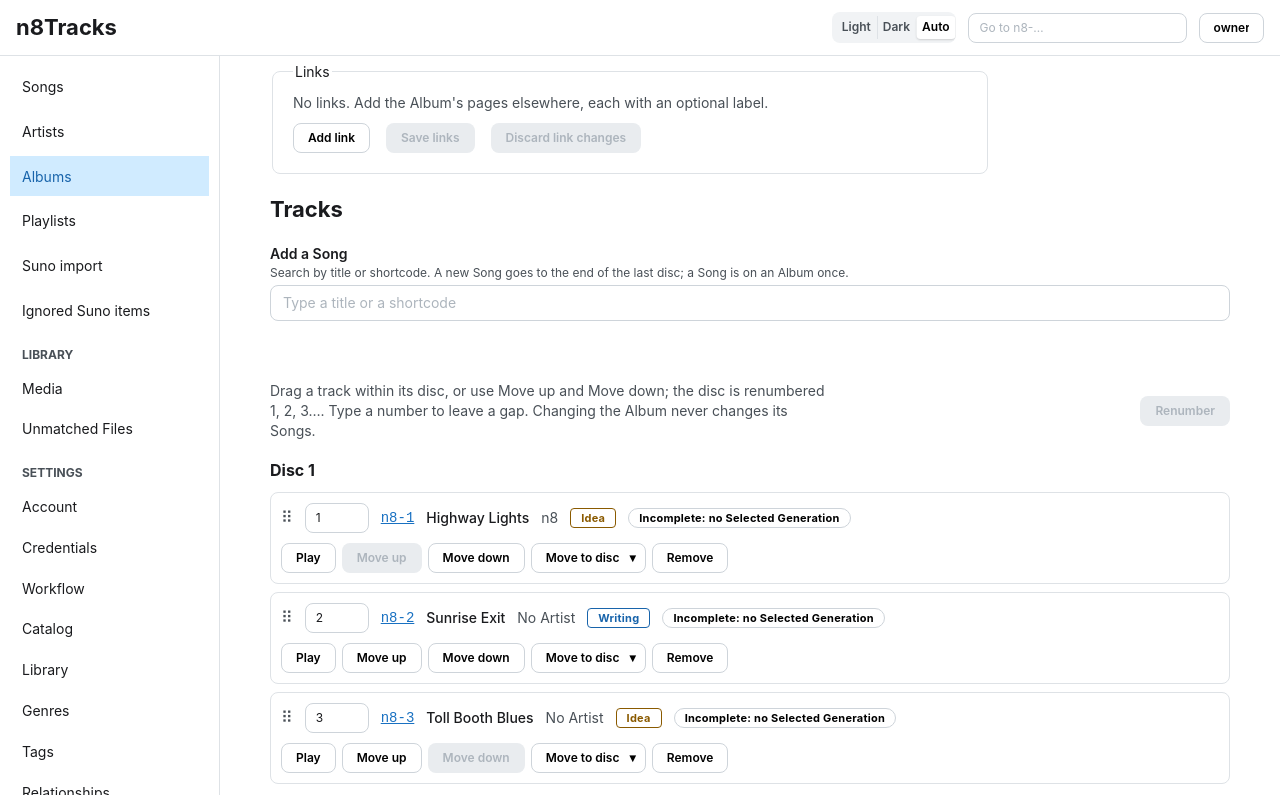
Test: an Album's tracks › refuses a number another track on the disc holds, naming it, and a number out of range
This screenshot has width=1280, height=795.
(page scrolled)
Replace the text in the field named "Track number of Toll Booth Blues" with "1" at [337, 718], box [305,703,369,733]
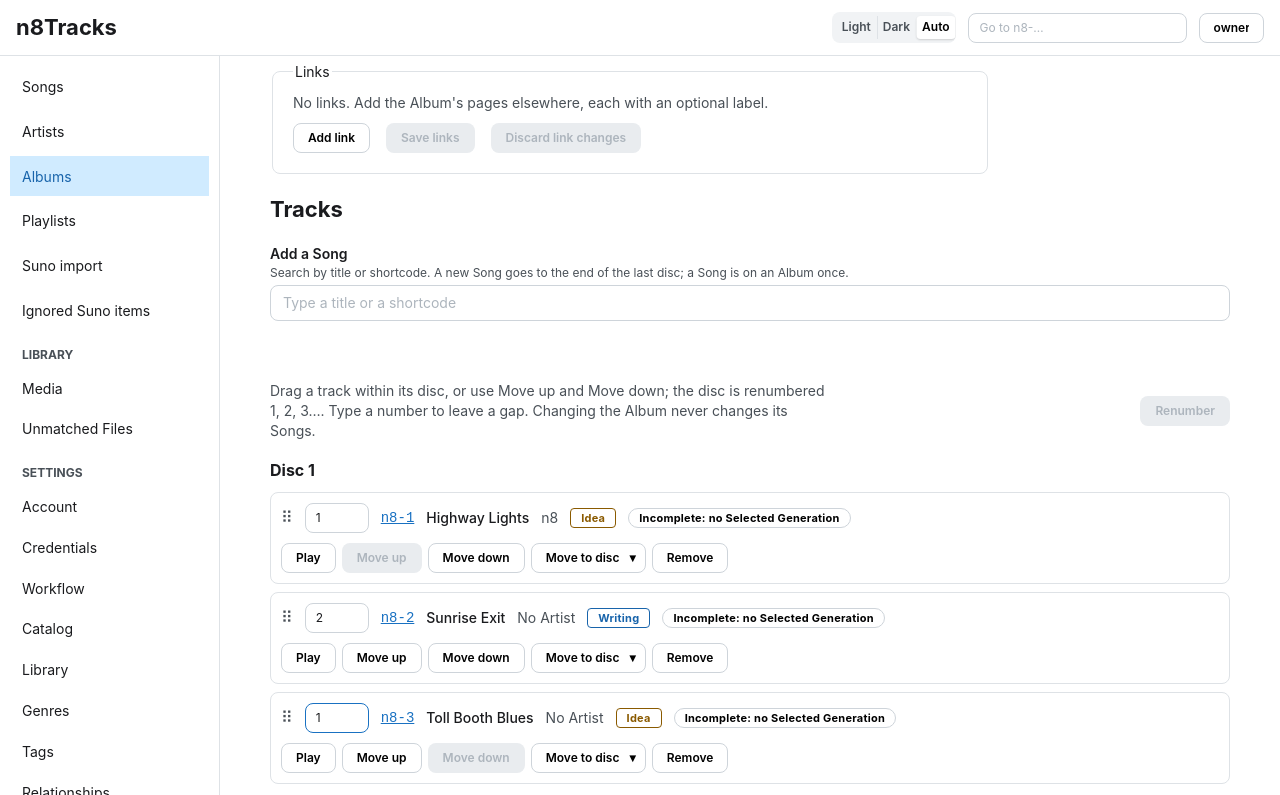
Press Tab
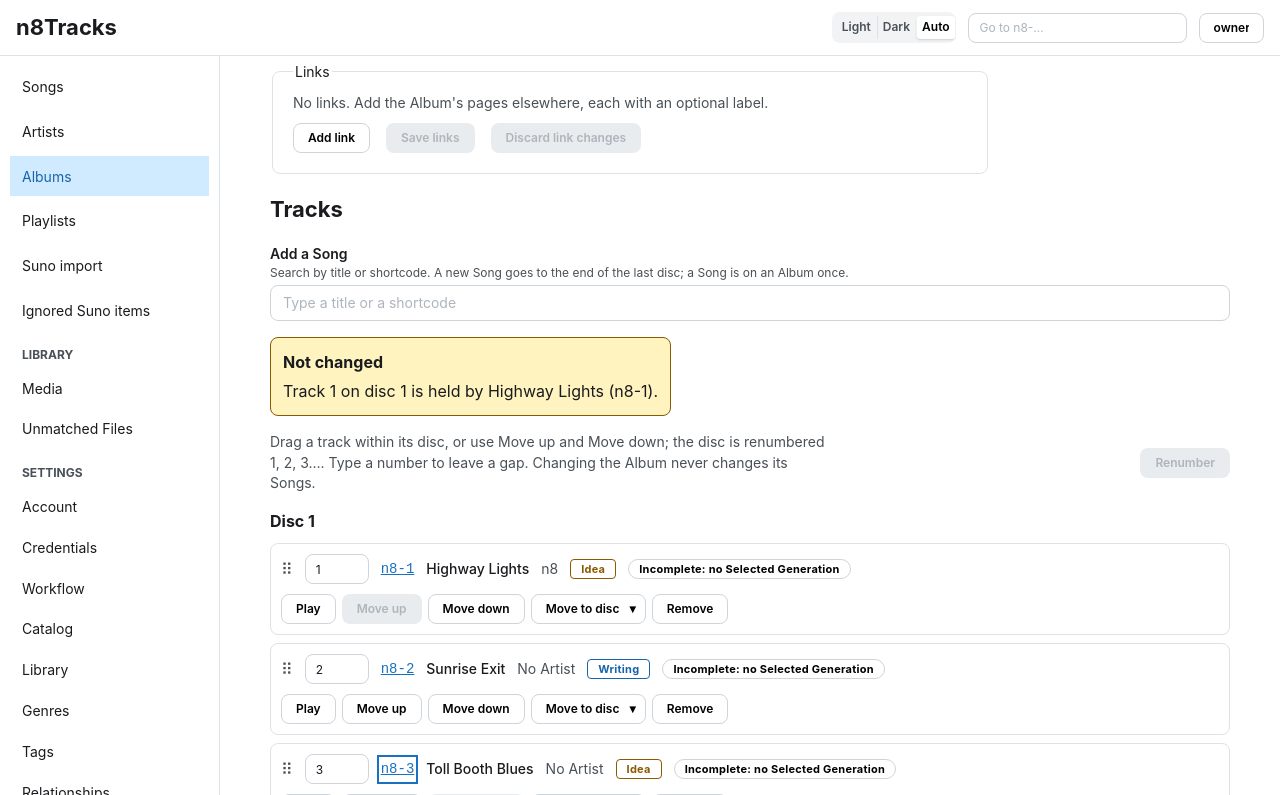
Result: the text "Track 1 on disc 1 is held by Highway Lights (n8-1)." is shown at [283,379,658,404]
Result: the field named "Track number of Toll Booth Blues" holds "3"
// Out of range is refused before anything is sent.
Replace the text in the field named "Track number of Toll Booth Blues" with "1000" at [337, 769], box [305,754,369,784]
Then press Enter
(page scrolled)
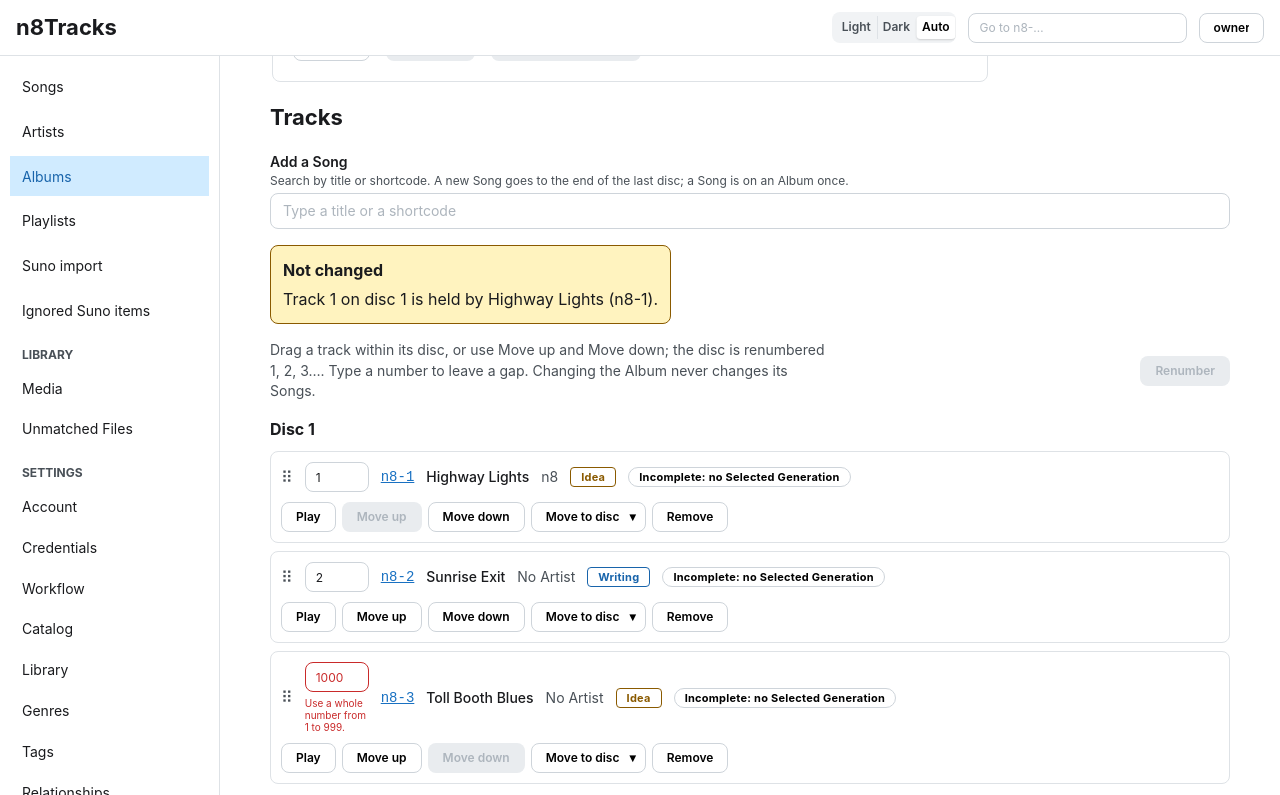
Result: the text "Use a whole number from 1 to 999." is shown at [305,697,369,733]
